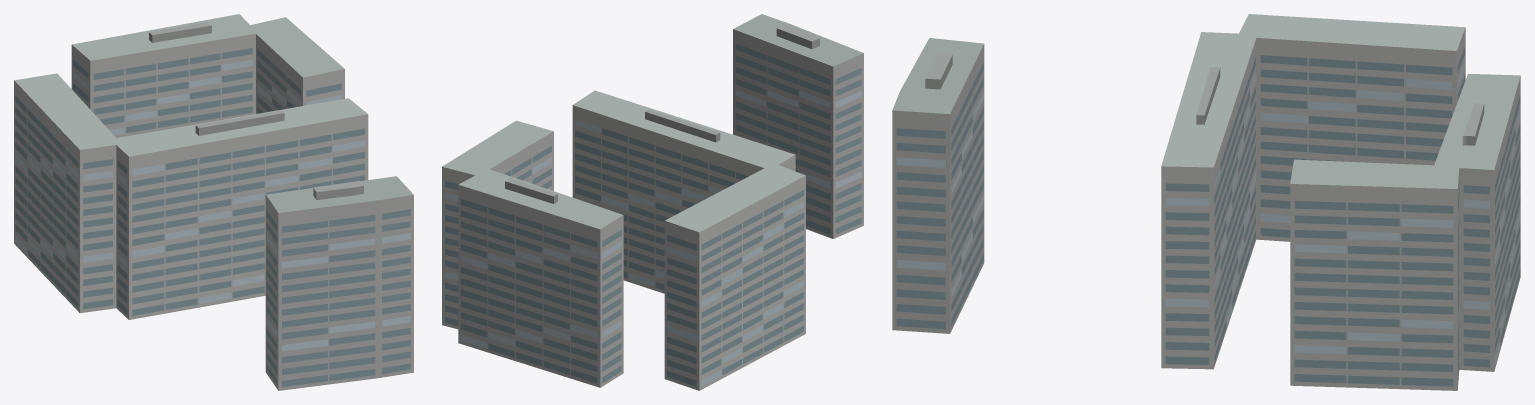
The model's file is apt-a13920501.glb.
The picture shows the model from 3 angles, left to right: view 1: azimuth 30°, elevation 25°; view 2: azimuth 150°, elevation 25°; view 3: azimuth 270°, elevation 25°; orthographic projection. The views are drawn at different scales.
Visible parts, largest first — view 1: apt-a13920501; view 2: apt-a13920501; view 3: apt-a13920501.
Boxes of the visible parts, x1,y1,x2,y2 form: apt-a13920501: (14,14,413,390); apt-a13920501: (442,14,863,390); apt-a13920501: (892,14,1520,390).
Size of the model in its own units: 78.2 by 47.81 by 119.
